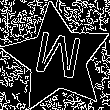M_S: (30, 29, 85, 88)
